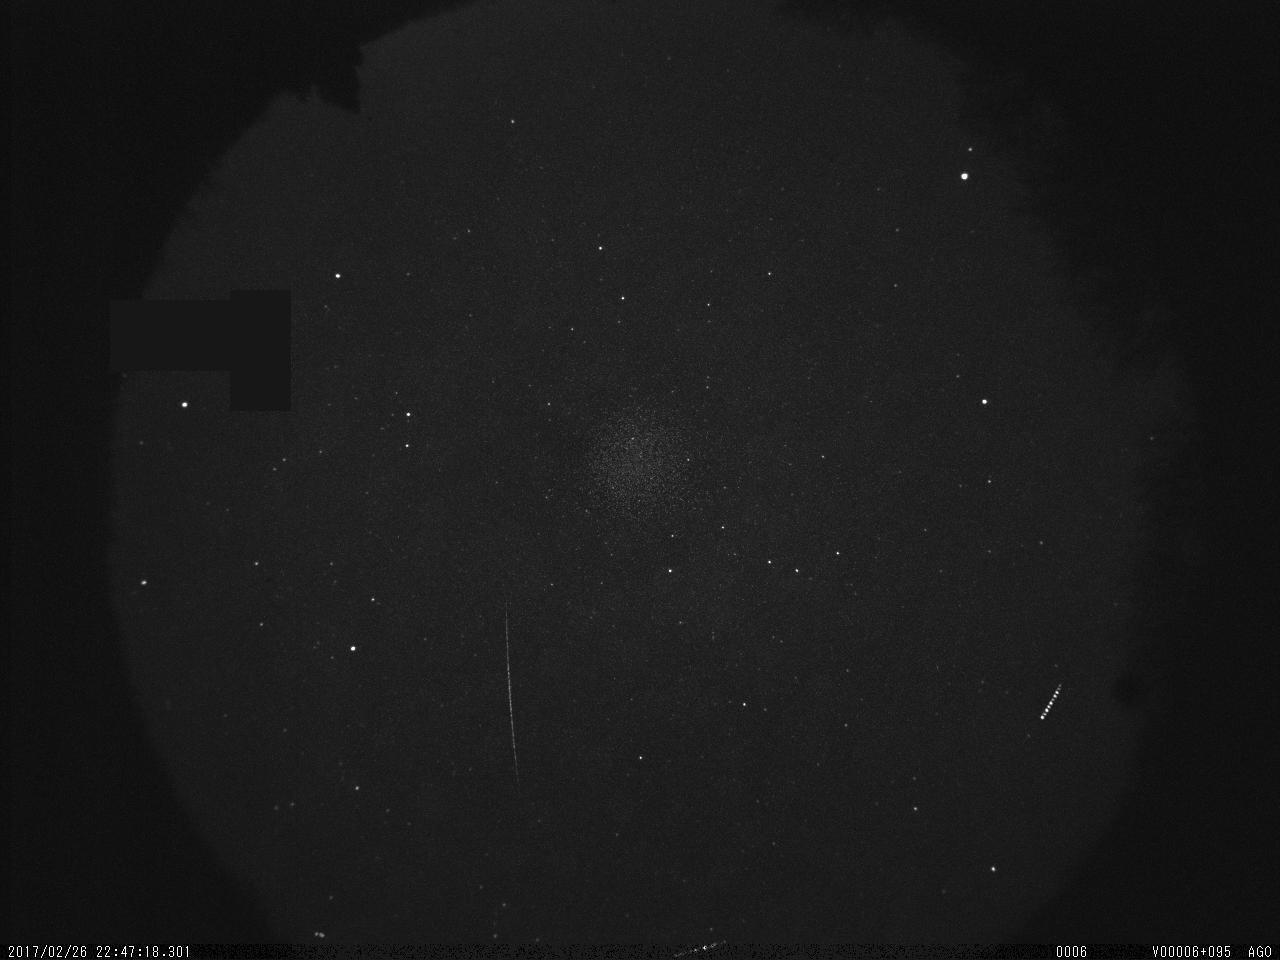meteor: (495, 582, 527, 804)
satelite: (1033, 672, 1076, 728)
